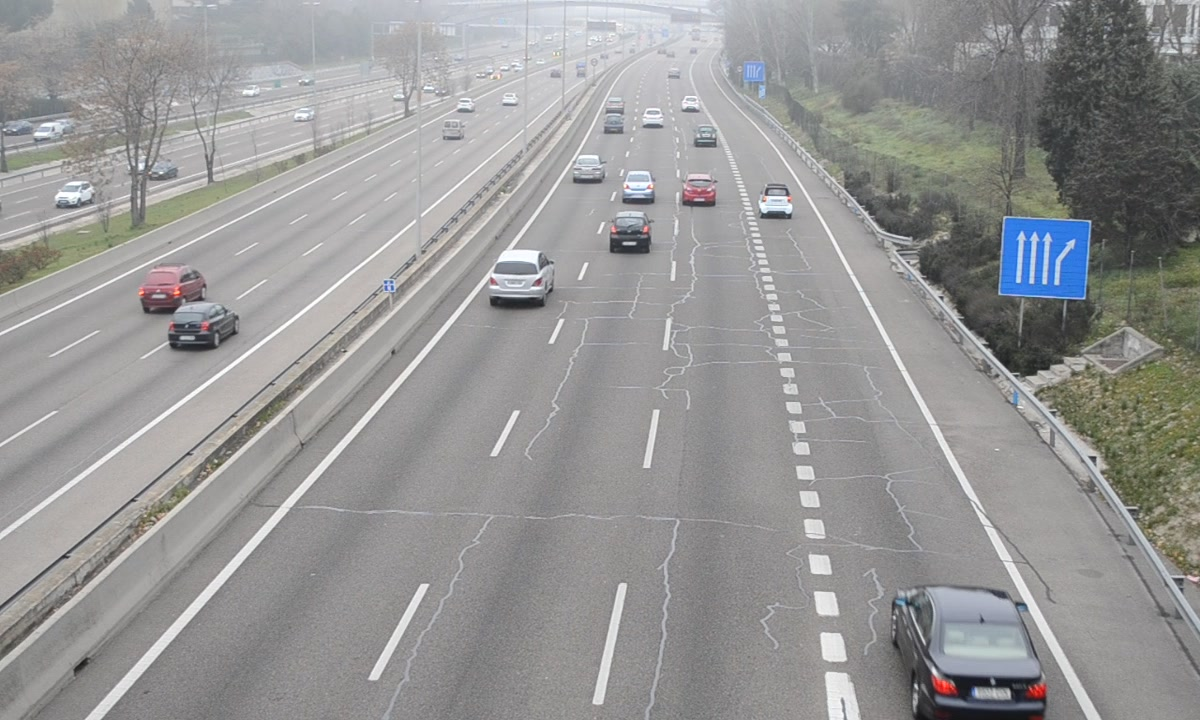car: (894, 586, 1050, 720), (487, 247, 556, 304), (609, 210, 654, 254), (760, 183, 794, 219), (623, 170, 657, 204), (683, 174, 718, 207), (572, 155, 607, 186), (693, 124, 720, 149), (602, 114, 626, 135)
